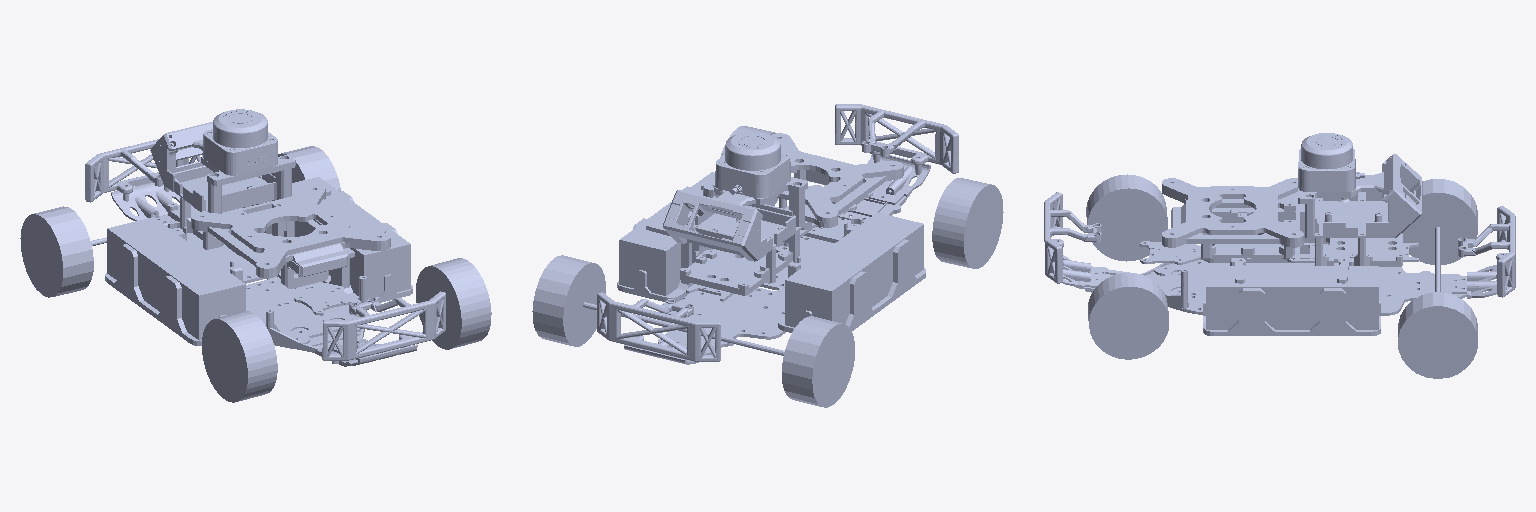
The robot description file, URDF, robot "f1tenth_urdf":
<?xml version="1.0" encoding="utf-8"?>
<!-- This URDF was automatically created by SolidWorks to URDF Exporter! Originally created by Stephen Brawner (brawner@gmail.com) 
     Commit Version: 1.6.0-4-g7f85cfe  Build Version: 1.6.7995.38578
     For more information, please see http://wiki.ros.org/sw_urdf_exporter -->
<robot
  name="f1tenth_urdf">
  <link
    name="base_link">
    <inertial>
      <origin
        xyz="0.000366043814887055 0.0328931706606518 0.0261731878297275"
        rpy="0 0 0" />
      <mass
        value="1.35645933623779" />
      <inertia
        ixx="0.00326428828858953"
        ixy="-4.48738370702773E-07"
        ixz="2.00823868282942E-07"
        iyy="0.00376715224503621"
        iyz="5.64628213315364E-06"
        izz="0.000859127715482805" />
    </inertial>
    <visual>
      <origin
        xyz="0 0 0"
        rpy="0 0 0" />
      <geometry>
        <mesh
          filename="package://f1tenth_description/meshes/base_link.STL" />
      </geometry>
      <material
        name="">
        <color
          rgba="0.792156862745098 0.819607843137255 0.933333333333333 1" />
      </material>
    </visual>
    <collision>
      <origin
        xyz="0 0 0"
        rpy="0 0 0" />
      <geometry>
        <mesh
          filename="package://f1tenth_description/meshes/base_link.STL" />
      </geometry>
    </collision>
  </link>
  <link
    name="FR_wheel">
    <inertial>
      <origin
        xyz="-0.0006889 3.4694E-18 -0.015985"
        rpy="0 0 0" />
      <mass
        value="0.15291" />
      <inertia
        ixx="7.1275E-05"
        ixy="-1.8007E-20"
        ixz="1.9398E-06"
        iyy="7.1191E-05"
        iyz="3.3727E-21"
        izz="0.0001162" />
    </inertial>
    <visual>
      <origin
        xyz="0 0 0"
        rpy="0 0 0" />
      <geometry>
        <mesh
          filename="package://f1tenth_description/meshes/FR_wheel.STL" />
      </geometry>
      <material
        name="">
        <color
          rgba="0.79216 0.81961 0.93333 1" />
      </material>
    </visual>
    <collision>
      <origin
        xyz="0 0 0"
        rpy="0 0 0" />
      <geometry>
        <mesh
          filename="package://f1tenth_description/meshes/FR_wheel.STL" />
      </geometry>
    </collision>
  </link>
  <joint
    name="FR_wheel"
    type="continuous">
    <origin
      xyz="0 0 0"
      rpy="1.5708 0 1.5708" />
    <parent
      link="TFR_wheel" />
    <child
      link="FR_wheel" />
    <axis
      xyz="0.043057 0 0.99907" />
  </joint>
  <link
    name="FL_wheel">
    <inertial>
      <origin
        xyz="0.0006889 3.4694E-18 0.015985"
        rpy="0 0 0" />
      <mass
        value="0.15291" />
      <inertia
        ixx="7.1275E-05"
        ixy="4.0022E-21"
        ixz="1.9398E-06"
        iyy="7.1191E-05"
        iyz="4.0404E-21"
        izz="0.0001162" />
    </inertial>
    <visual>
      <origin
        xyz="0 0 0"
        rpy="0 0 0" />
      <geometry>
        <mesh
          filename="package://f1tenth_description/meshes/FL_wheel.STL" />
      </geometry>
      <material
        name="">
        <color
          rgba="0.79216 0.81961 0.93333 1" />
      </material>
    </visual>
    <collision>
      <origin
        xyz="0 0 0"
        rpy="0 0 0" />
      <geometry>
        <mesh
          filename="package://f1tenth_description/meshes/FL_wheel.STL" />
      </geometry>
    </collision>
  </link>
  <joint
    name="FL_wheel"
    type="continuous">
    <origin
      xyz="0 0 0"
      rpy="1.5708 0 1.5708" />
    <parent
      link="TFL_wheel" />
    <child
      link="FL_wheel" />
    <axis
      xyz="-0.043057 0 -0.99907" />
  </joint>
  <link
    name="RR_wheel">
    <inertial>
      <origin
        xyz="-4.0246E-16 1.2143E-17 0.114"
        rpy="0 0 0" />
      <mass
        value="0.31029" />
      <inertia
        ixx="0.0053301"
        ixy="-5.2183E-20"
        ixz="1.6897E-17"
        iyy="0.0053301"
        iyz="-6.5303E-19"
        izz="0.00023259" />
    </inertial>
    <visual>
      <origin
        xyz="0 0 0"
        rpy="0 0 0" />
      <geometry>
        <mesh
          filename="package://f1tenth_description/meshes/RR_wheel.STL" />
      </geometry>
      <material
        name="">
        <color
          rgba="0.79216 0.81961 0.93333 1" />
      </material>
    </visual>
    <collision>
      <origin
        xyz="0 0 0"
        rpy="0 0 0" />
      <geometry>
        <mesh
          filename="package://f1tenth_description/meshes/RR_wheel.STL" />
      </geometry>
    </collision>
  </link>
  <joint
    name="RR_wheel"
    type="continuous">
    <origin
      xyz="-0.114 0.11617 0.0075"
      rpy="1.5708 0 1.5708" />
    <parent
      link="base_link" />
    <child
      link="RR_wheel" />
    <axis
      xyz="0 0 -1" />
  </joint>
  <link
    name="RL_wheel">
    <inertial>
      <origin
        xyz="4.0246E-16 -1.648E-17 -0.114"
        rpy="0 0 0" />
      <mass
        value="0.31029" />
      <inertia
        ixx="0.0053301"
        ixy="-5.2183E-20"
        ixz="1.6897E-17"
        iyy="0.0053301"
        iyz="-6.5303E-19"
        izz="0.00023259" />
    </inertial>
    <visual>
      <origin
        xyz="0 0 0"
        rpy="0 0 0" />
      <geometry>
        <mesh
          filename="package://f1tenth_description/meshes/RL_wheel.STL" />
      </geometry>
      <material
        name="">
        <color
          rgba="0.79216 0.81961 0.93333 1" />
      </material>
    </visual>
    <collision>
      <origin
        xyz="0 0 0"
        rpy="0 0 0" />
      <geometry>
        <mesh
          filename="package://f1tenth_description/meshes/RL_wheel.STL" />
      </geometry>
    </collision>
  </link>
  <joint
    name="RL_wheel"
    type="continuous">
    <origin
      xyz="0.114 0.11617 0.0075"
      rpy="1.5708 0 1.5708" />
    <parent
      link="base_link" />
    <child
      link="RL_wheel" />
    <axis
      xyz="0 0 -1" />
  </joint>
  <link
    name="imu">
    <inertial>
      <origin
        xyz="0.0030723 -5.5511E-17 -0.004"
        rpy="0 0 0" />
      <mass
        value="0.008384" />
      <inertia
        ixx="3.0478E-07"
        ixy="-1.2196E-22"
        ixz="1.846E-23"
        iyy="2.1303E-06"
        iyz="2.3155E-21"
        izz="2.3512E-06" />
    </inertial>
    <visual>
      <origin
        xyz="0 0 0"
        rpy="0 0 0" />
      <geometry>
        <mesh
          filename="package://f1tenth_description/meshes/imu.STL" />
      </geometry>
      <material
        name="">
        <color
          rgba="0.79216 0.81961 0.93333 1" />
      </material>
    </visual>
    <collision>
      <origin
        xyz="0 0 0"
        rpy="0 0 0" />
      <geometry>
        <mesh
          filename="package://f1tenth_description/meshes/imu.STL" />
      </geometry>
    </collision>
  </link>
  <joint
    name="imu"
    type="fixed">
    <origin
      xyz="0.00018244 -0.12785 0.0708"
      rpy="0 0 0" />
    <parent
      link="base_link" />
    <child
      link="imu" />
    <axis
      xyz="0 0 0" />
  </joint>
  <link
    name="lidar">
    <inertial>
      <origin
        xyz="3.8691E-08 7.7574E-05 -0.012838"
        rpy="0 0 0" />
      <mass
        value="0.10251" />
      <inertia
        ixx="3.5311E-05"
        ixy="-2.0748E-11"
        ixz="-2.0839E-11"
        iyy="3.5051E-05"
        iyz="1.053E-07"
        izz="4.3497E-05" />
    </inertial>
    <visual>
      <origin
        xyz="0 0 0"
        rpy="0 0 0" />
      <geometry>
        <mesh
          filename="package://f1tenth_description/meshes/lidar.STL" />
      </geometry>
      <material
        name="">
        <color
          rgba="0.79216 0.81961 0.93333 1" />
      </material>
    </visual>
    <collision>
      <origin
        xyz="0 0 0"
        rpy="0 0 0" />
      <geometry>
        <mesh
          filename="package://f1tenth_description/meshes/lidar.STL" />
      </geometry>
    </collision>
  </link>
  <joint
    name="lidar"
    type="fixed">
    <origin
      xyz="0.00018244 0.0089812 0.1441"
      rpy="0 0 0" />
    <parent
      link="base_link" />
    <child
      link="lidar" />
    <axis
      xyz="0 0 0" />
  </joint>
  <link
    name="TFR_wheel">
    <inertial>
      <origin
        xyz="0 0 0"
        rpy="0 0 0" />
      <mass
        value="0" />
      <inertia
        ixx="0"
        ixy="0"
        ixz="0"
        iyy="0"
        iyz="0"
        izz="0" />
    </inertial>
  </link>
  <joint
    name="TFR_wheel"
    type="revolute">
    <origin
      xyz="-0.096372 -0.18378 0.02"
      rpy="0 0 0" />
    <parent
      link="base_link" />
    <child
      link="TFR_wheel" />
    <axis
      xyz="0 0 1" />
    <limit
      lower="-0.5236"
      upper="0.5236"
      effort="10"
      velocity="1" />
  </joint>
  <link
    name="TFL_wheel">
    <inertial>
      <origin
        xyz="0 0 0"
        rpy="0 0 0" />
      <mass
        value="0" />
      <inertia
        ixx="0"
        ixy="0"
        ixz="0"
        iyy="0"
        iyz="0"
        izz="0" />
    </inertial>
  </link>
  <joint
    name="TFL_wheel"
    type="revolute">
    <origin
      xyz="0.096372 -0.18378 0.02"
      rpy="0 0 0" />
    <parent
      link="base_link" />
    <child
      link="TFL_wheel" />
    <axis
      xyz="0 0 1" />
    <limit
      lower="-0.5236"
      upper="0.5236"
      effort="10"
      velocity="1" />
  </joint>
</robot>

--- Facts derived from the render (not from the file) ---
The picture shows the robot from 3 angles, left to right: view 1: azimuth 30°, elevation 25°; view 2: azimuth 150°, elevation 25°; view 3: azimuth 270°, elevation 25°; orthographic projection.
Model f1tenth_urdf with 9 links and 8 joints (2 revolute, 4 continuous, 2 fixed), rooted at base_link, posed every joint at zero.
Visible links, largest first — view 1: base_link, RL_wheel, FR_wheel, FL_wheel, lidar, RR_wheel; view 2: base_link, RR_wheel, FR_wheel, lidar, RL_wheel; view 3: base_link, FL_wheel, RL_wheel, FR_wheel, RR_wheel, lidar.
Boxes of the visible links, x1,y1,x2,y2 form: base_link: [85, 122, 445, 366]; RL_wheel: [20, 146, 340, 292]; FR_wheel: [202, 311, 277, 402]; FL_wheel: [416, 258, 491, 349]; lidar: [203, 109, 277, 175]; RR_wheel: [21, 153, 304, 297]; base_link: [597, 104, 958, 364]; RR_wheel: [532, 263, 854, 407]; FR_wheel: [932, 178, 1003, 268]; lidar: [715, 132, 790, 197]; RL_wheel: [540, 255, 854, 406]; base_link: [1044, 154, 1515, 335]; FL_wheel: [1088, 273, 1168, 359]; RL_wheel: [1398, 179, 1477, 378]; FR_wheel: [1086, 174, 1167, 261]; RR_wheel: [1398, 188, 1477, 378]; lidar: [1298, 133, 1364, 191].
Size in the robot's own frame: 0.292 by 0.4556 by 0.1856 metres.
7 mesh visuals loaded from 7 distinct referenced files (7 binary STL).
